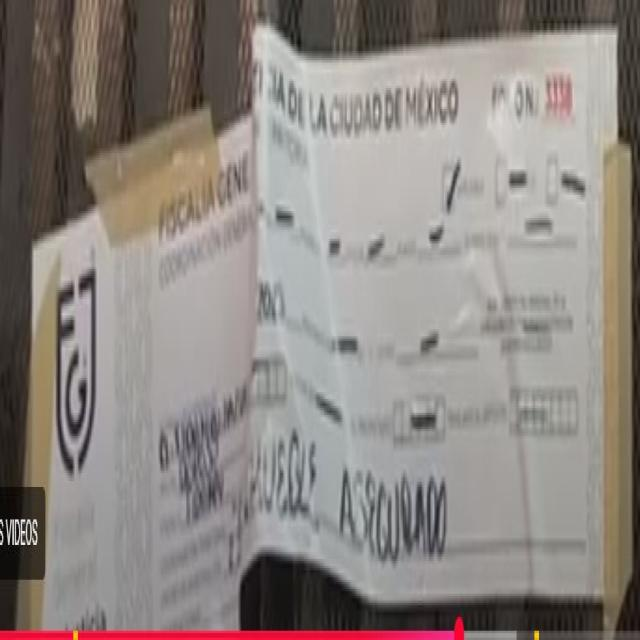stamps: (24, 41, 616, 625)
